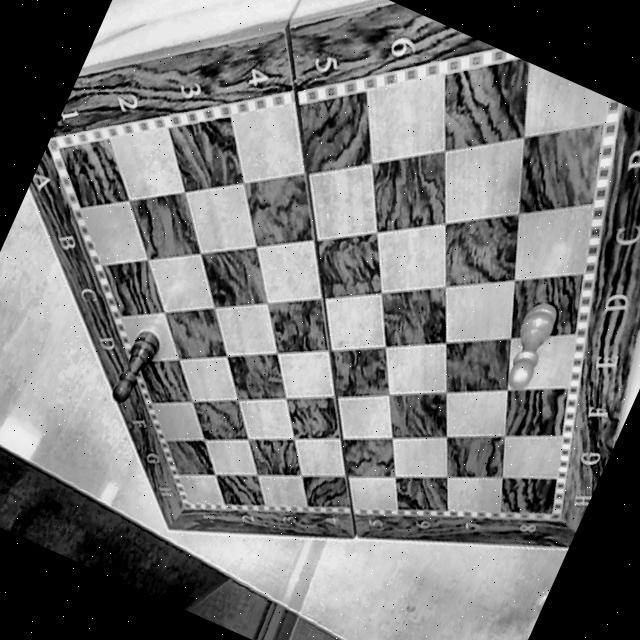black-pawn: (95, 304, 176, 416)
white-pawn: (496, 296, 564, 396)
